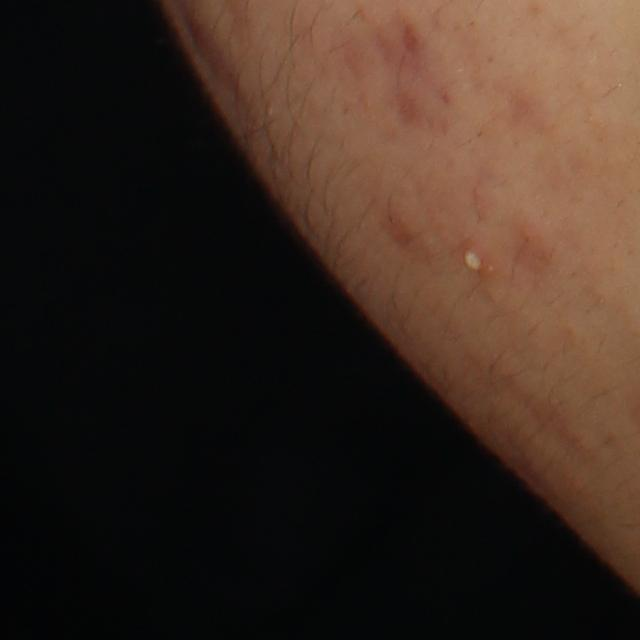pustule: (454, 235, 491, 286)
